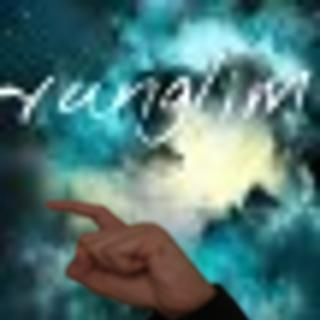WHY: (38, 194, 213, 311)
